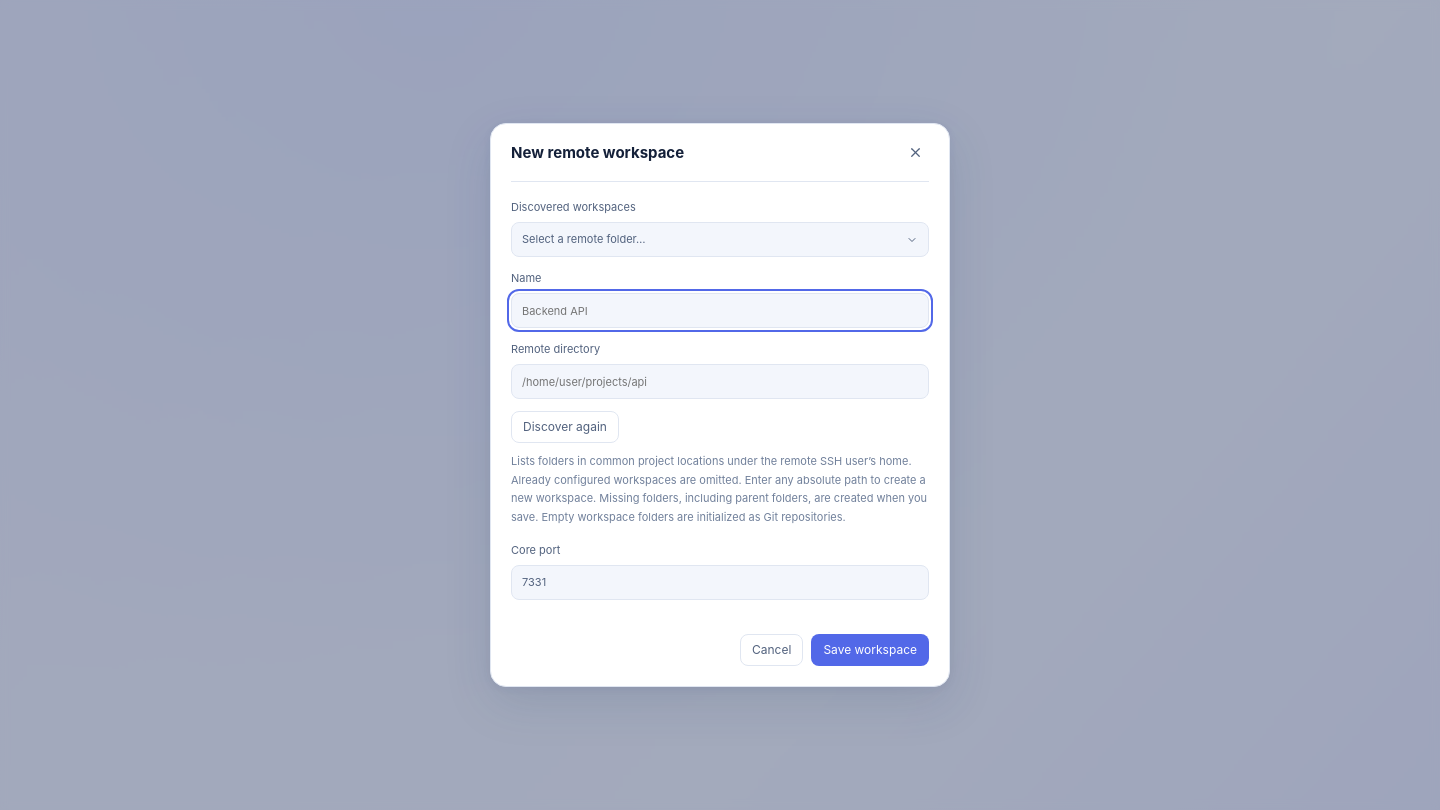
Test: Gateway dialogs › discovers remote workspaces on open and fills the form from a selection
Click the dropdown named "Discovered workspaces" at coordinates (584, 239), box [511,222,929,257]
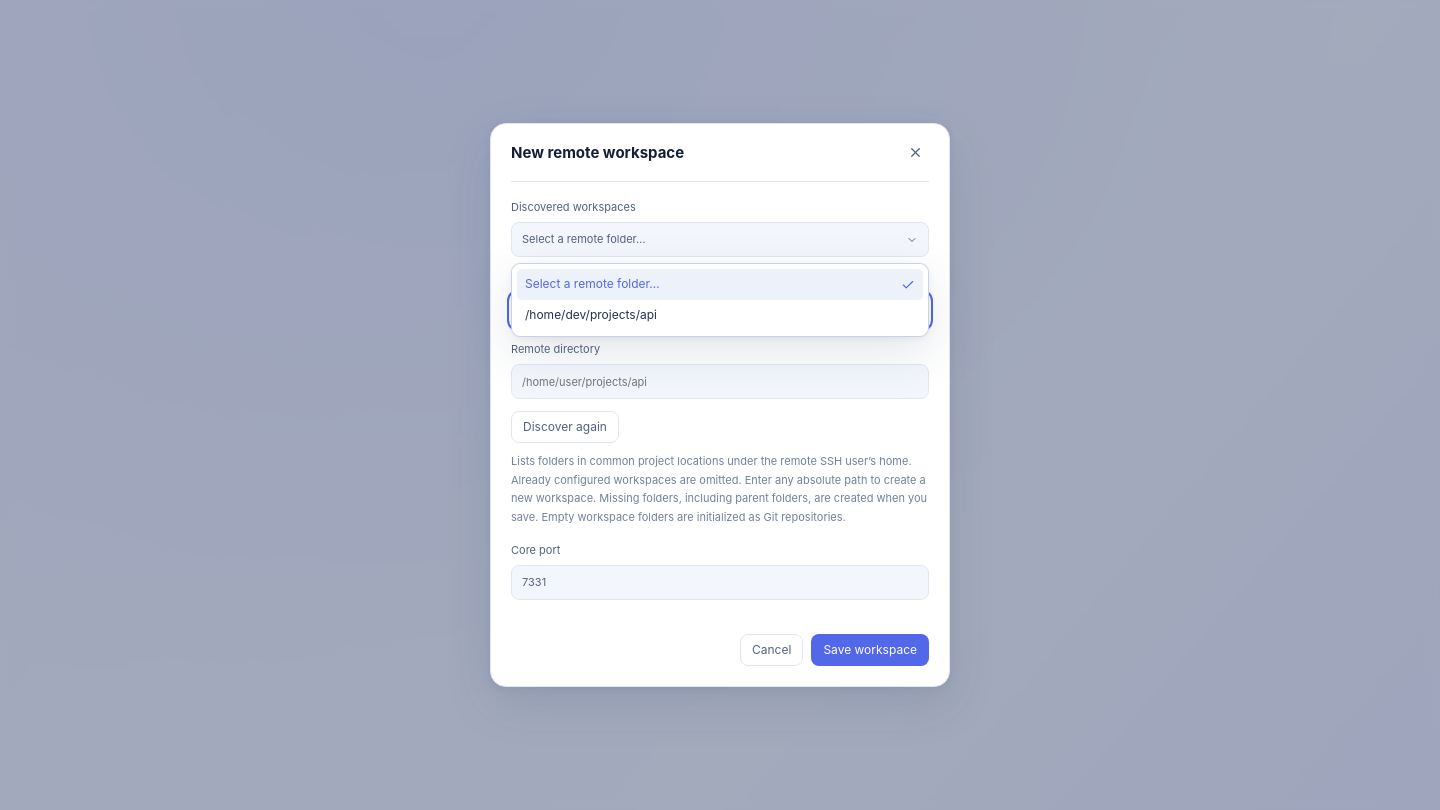
Click the option "/home/dev/projects/api" at coordinates (591, 314), box [525,307,657,322]
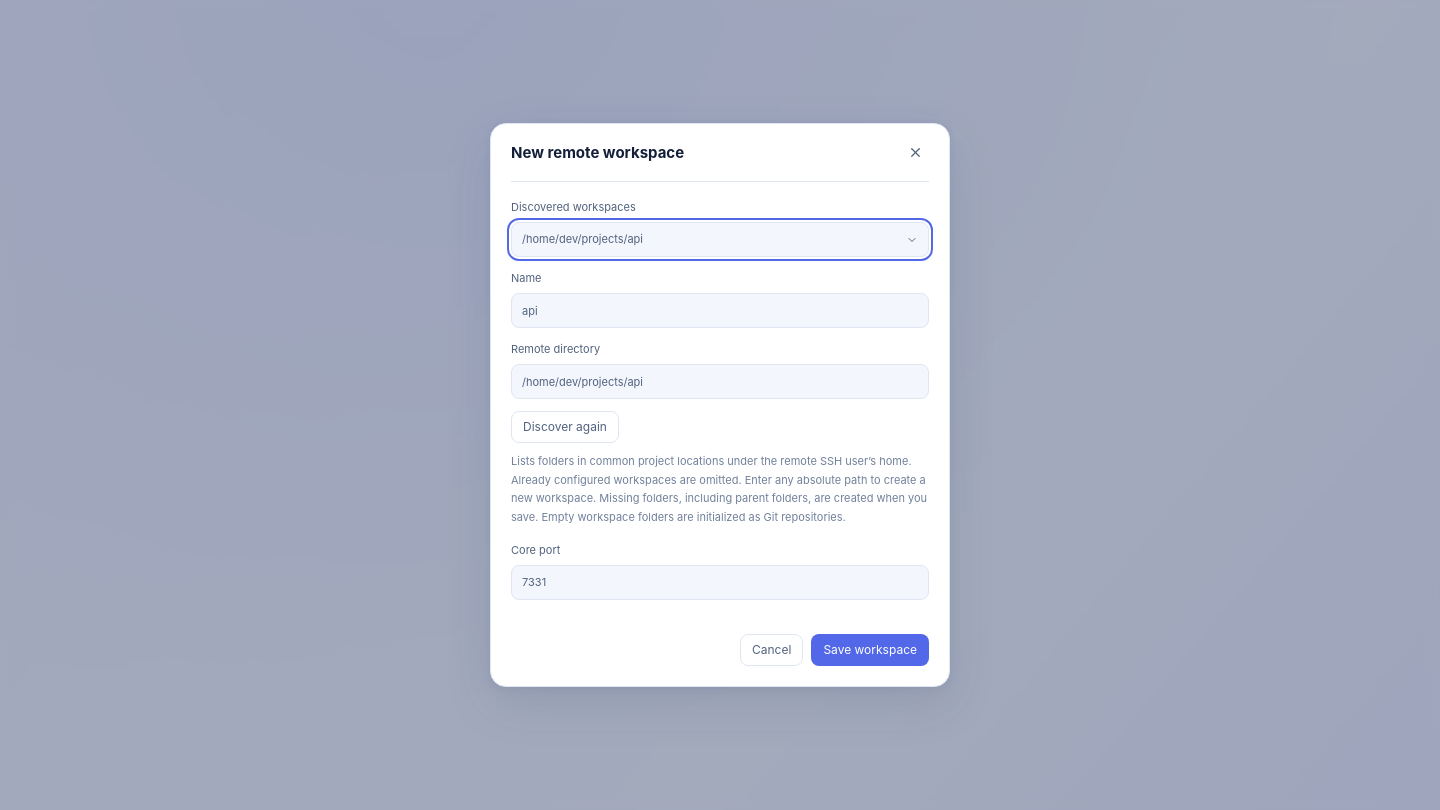
Result: the field labelled "Name" holds "api" at [511,293,929,328]
Result: the field labelled "Remote directory" holds "/home/dev/projects/api" at [511,364,929,399]
